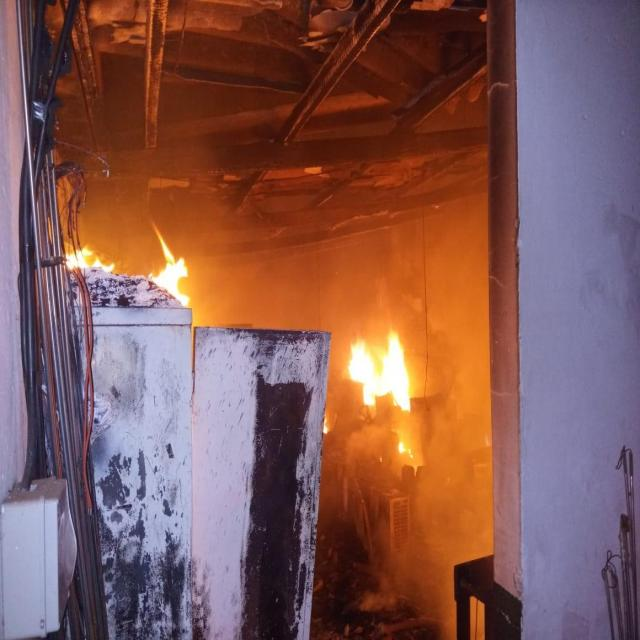fire: (56, 236, 125, 280)
